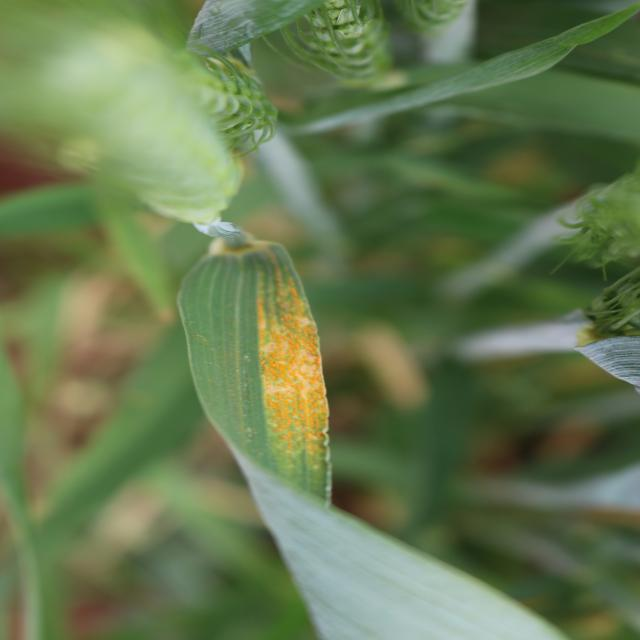Stripe Rust: (256, 288, 328, 472)
